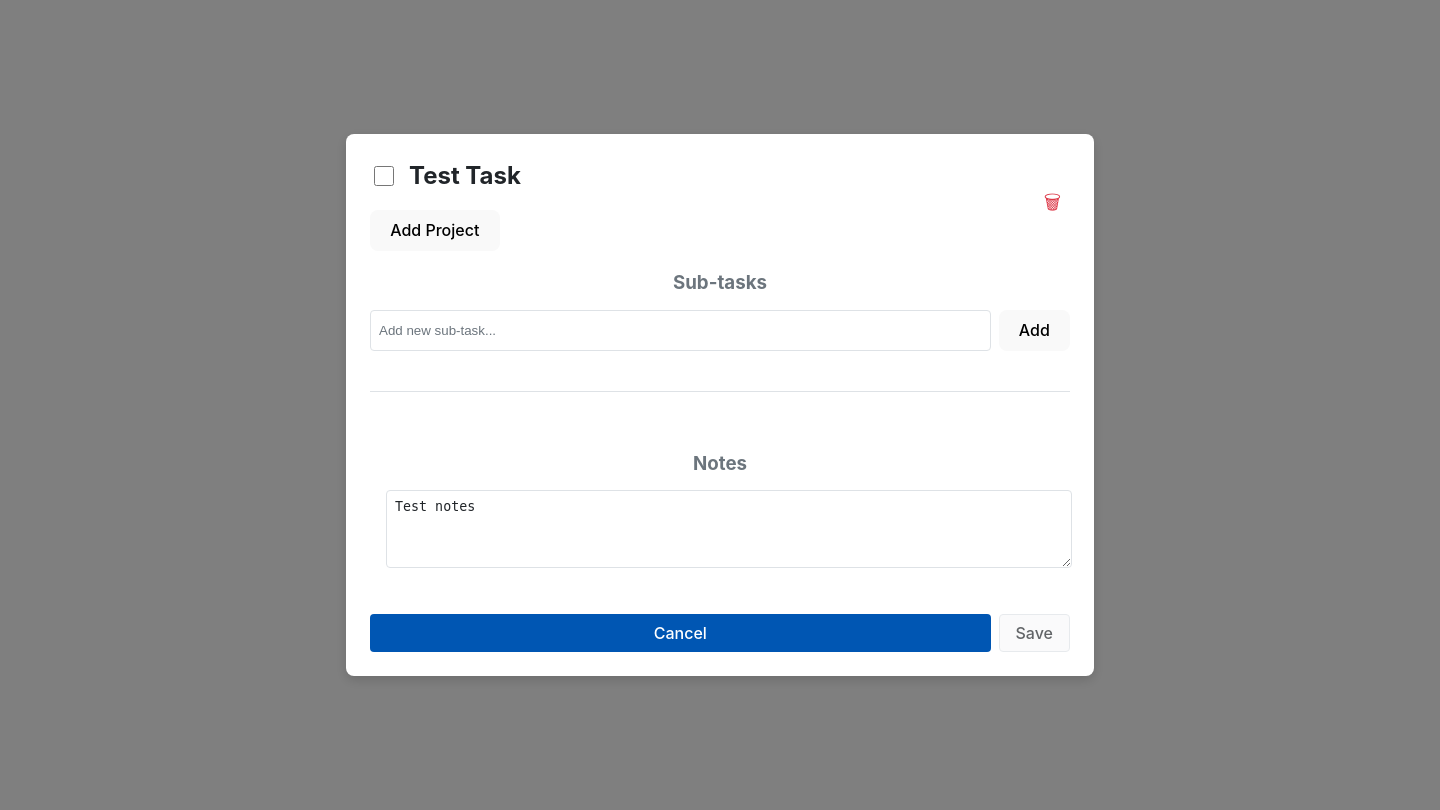
Scenario: TaskDetails › adds subtasks correctly
The image size is (1440, 810).
Type "New subtask" into the field with placeholder "Add new sub-task..." at {"x": 680, "y": 330}, box [370,310,991,351]
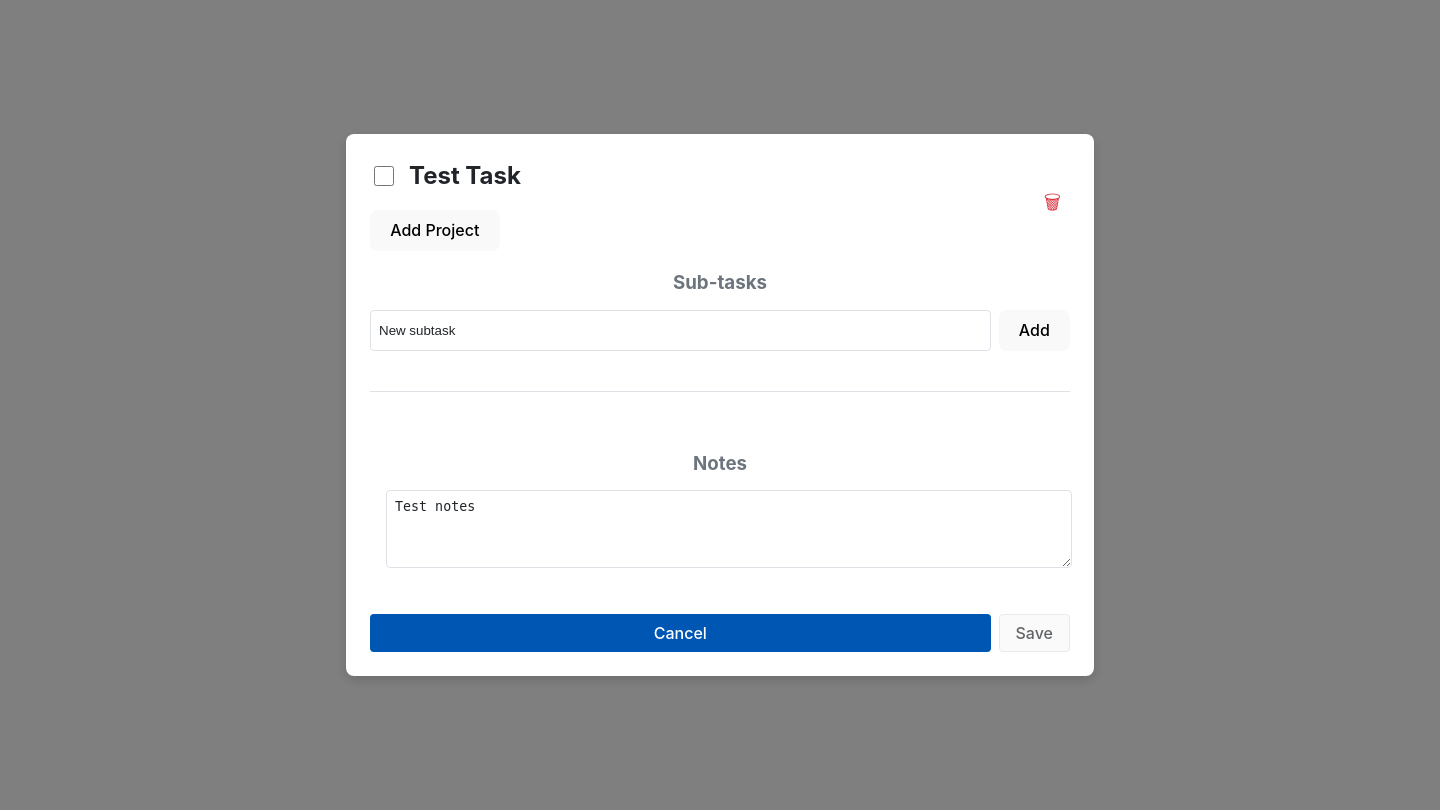
Click the button with test id "add-subtask-button" at {"x": 1034, "y": 330}, box [999,310,1070,351]
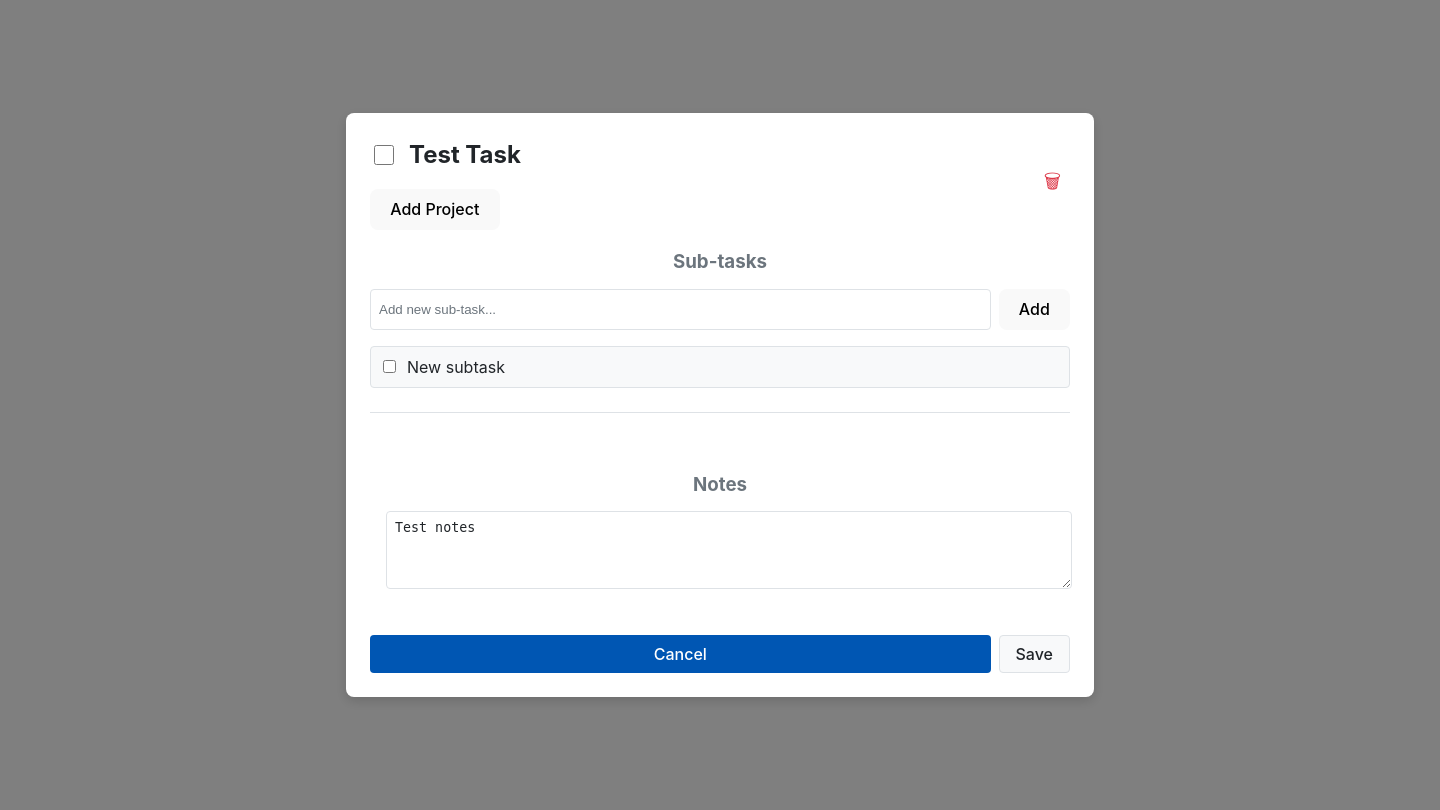
Expected: the text "New subtask" is shown, [407,355,505,379]
